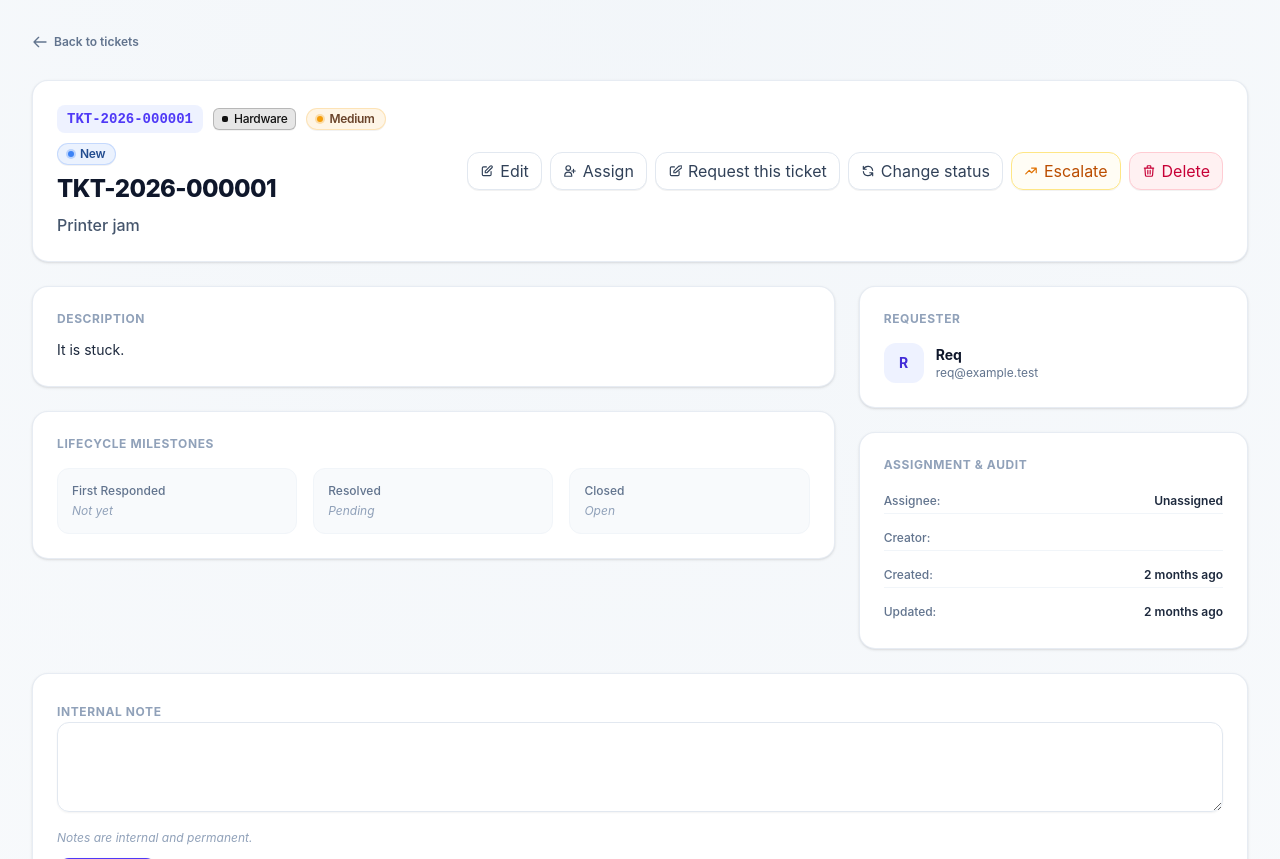
it: TicketDetailView status change › after a confirmed assign, the dialog closes and the assignee is shown
Click the button with test id "action-assign" at coordinates (598, 171), box 550,152 -> 647,190
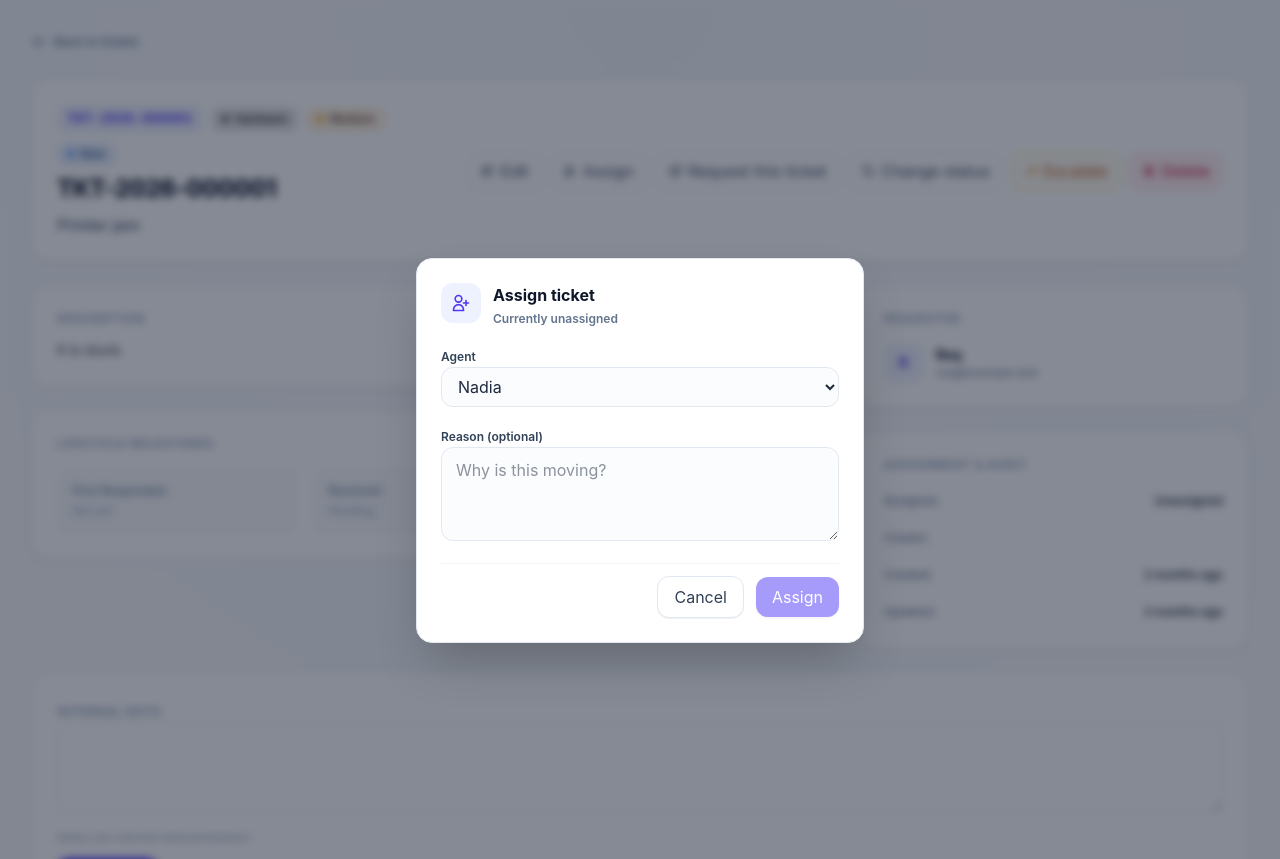
Select "Nadia" in the dropdown with test id "ticket-assign-select" at coordinates (640, 386), box 441,366 -> 839,406
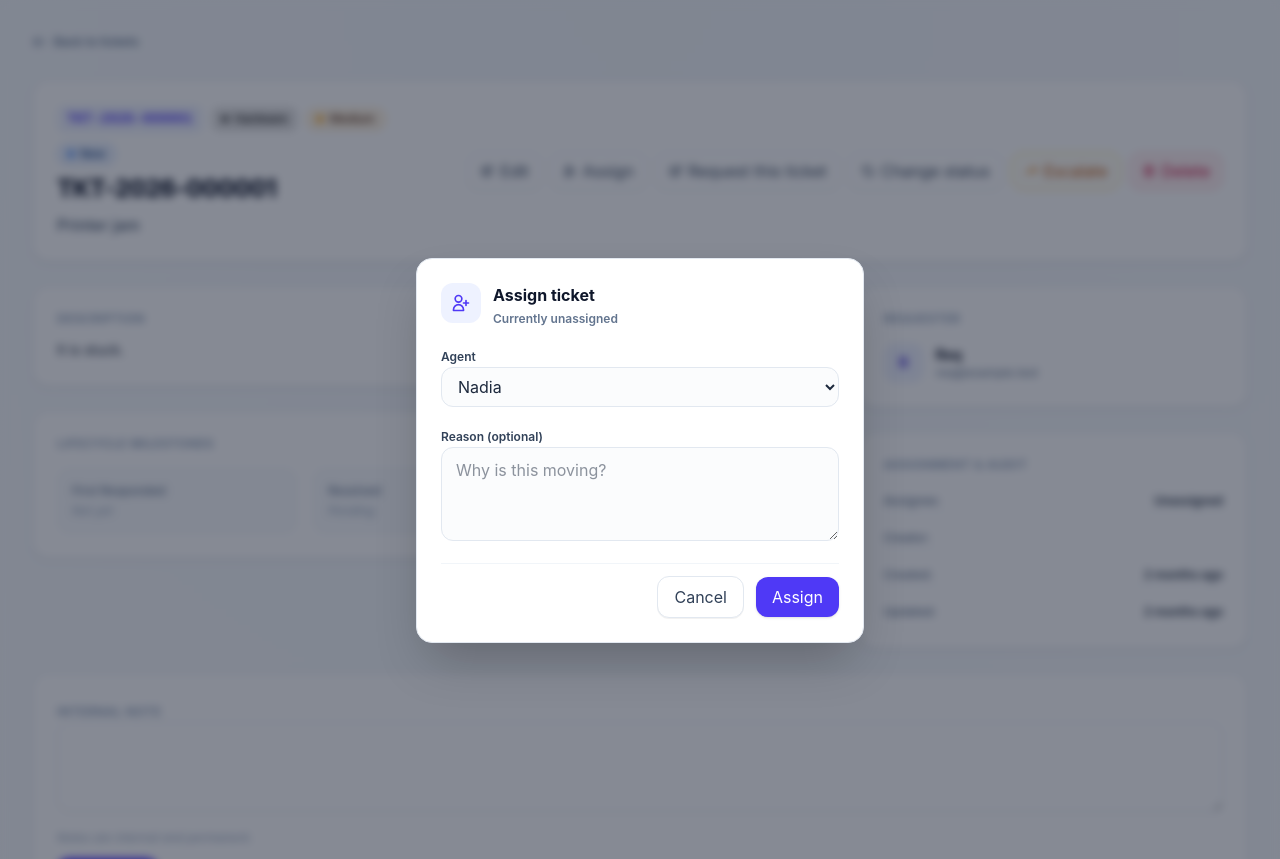
Click the button with test id "ticket-assign-confirm" at coordinates (797, 596), box 756,576 -> 839,616
(page scrolled)
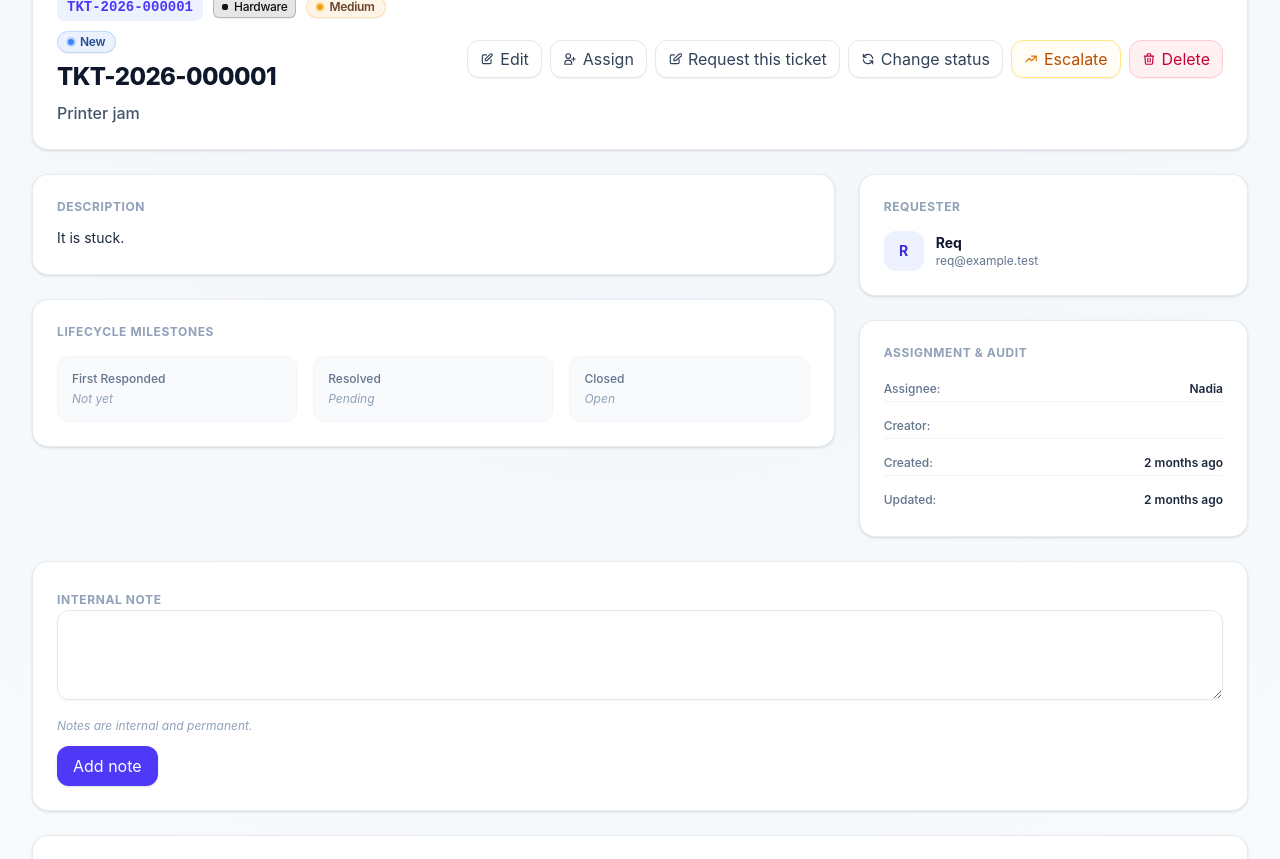
Result: the element with test id "ticket-detail" shows "Nadia" at 1190,381 -> 1223,396
